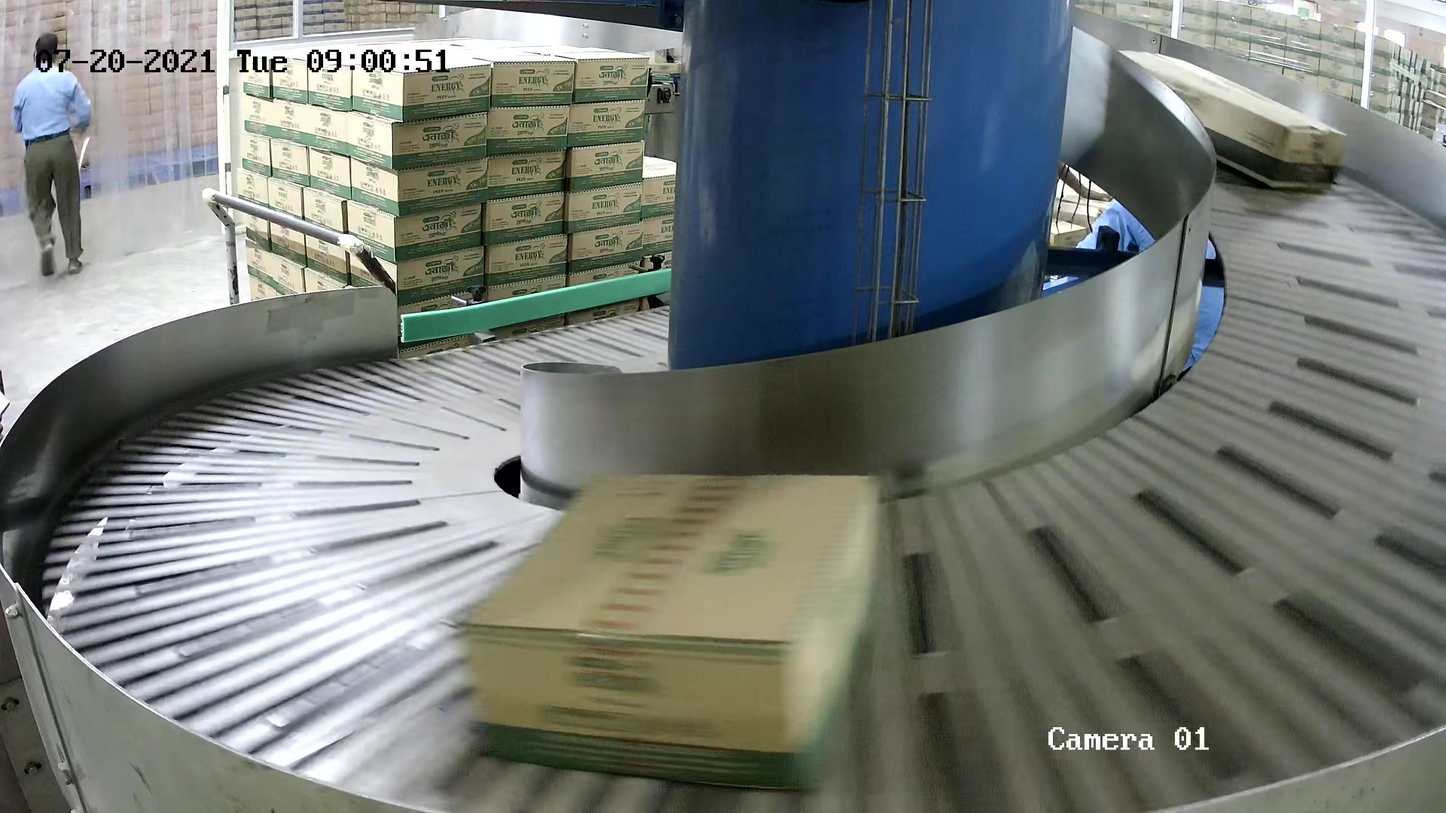Box: (459, 472, 884, 795), (1116, 49, 1348, 188)
